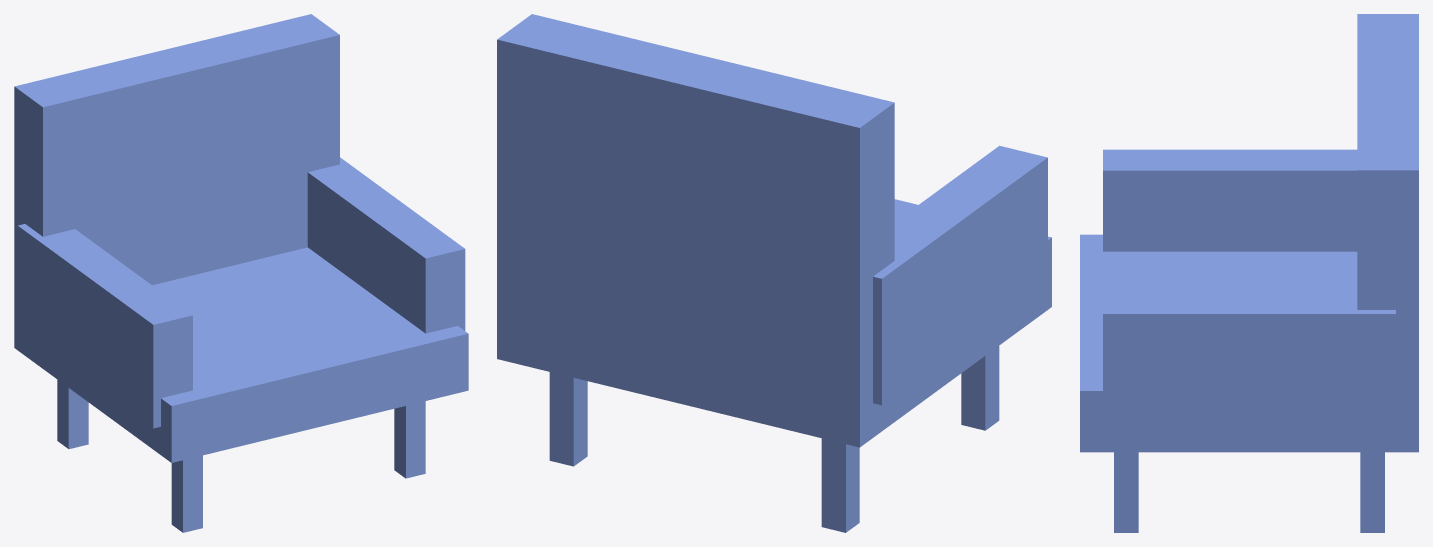
File: sample-product.glb
3 renders of one model, left to right at view 1: azimuth 30°, elevation 25°; view 2: azimuth 150°, elevation 25°; view 3: azimuth 270°, elevation 25°, orthographic. The views are drawn at different scales.
Visible parts, largest first — view 1: Forma3D_Minimal_Armchair; view 2: Forma3D_Minimal_Armchair; view 3: Forma3D_Minimal_Armchair.
Boxes of the visible parts, x1,y1,x2,y2 form: Forma3D_Minimal_Armchair: (14, 14, 468, 532); Forma3D_Minimal_Armchair: (497, 14, 1051, 532); Forma3D_Minimal_Armchair: (1080, 14, 1418, 532).
Bounding box in the file's own units: 1.26 × 1.35 × 1.1.
